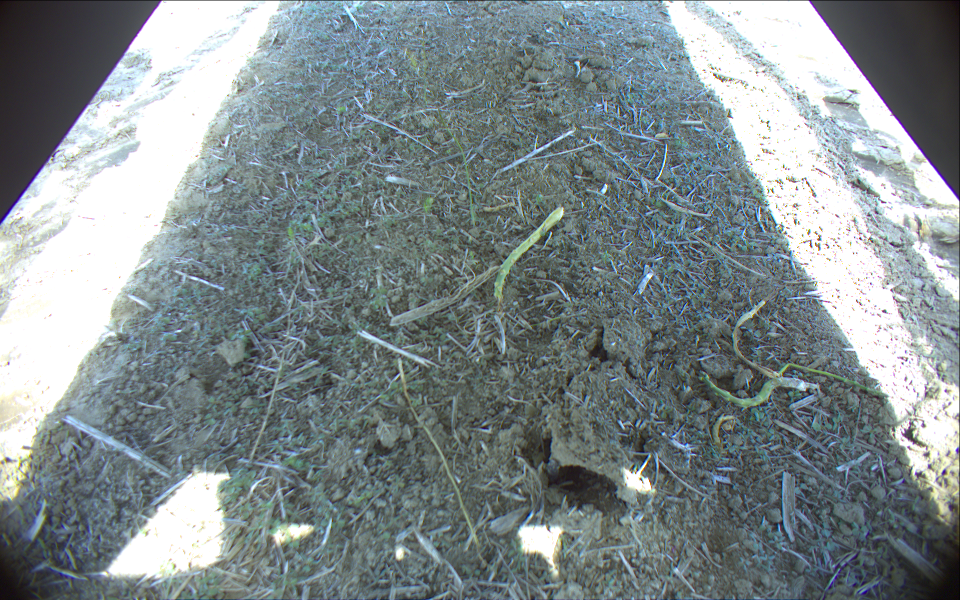aspa: (398, 357, 482, 550), (493, 206, 565, 303), (437, 111, 479, 229), (700, 371, 813, 408), (776, 363, 894, 397)
